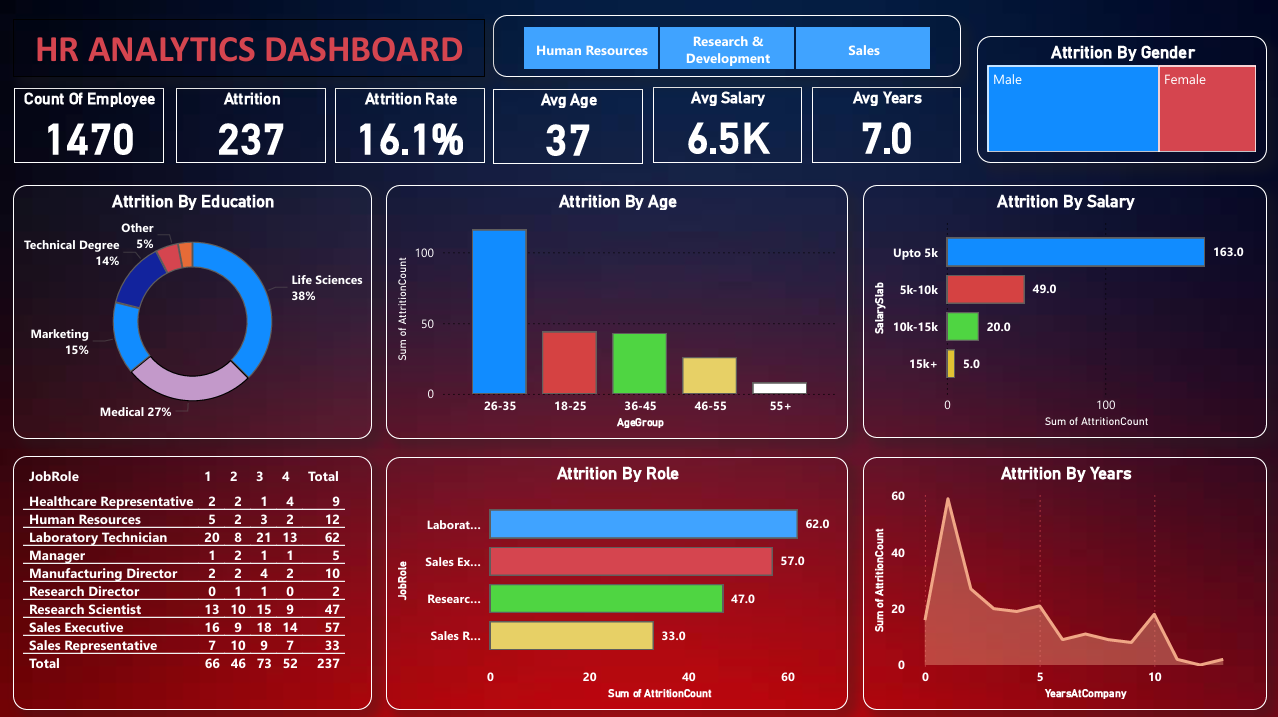

This screenshot's page, from the dashboard's own definition file:
{"tool":"powerbi","page":{"name":"HR ","canvas":[1280,720],"ordinal":0},"visuals":[{"type":"card","title":"Count Of Employee","fields":{"Values":["CountNonNull(HR_Analytics.EmpID)"]},"box":[14.7,88.8,150.1,75],"z":0},{"type":"card","title":"Attrition","fields":{"Values":["Sum(HR_Analytics.AttritionCount)"]},"box":[176.8,88.8,150.1,75],"z":1000},{"type":"card","title":"Attrition Rate","fields":{"Values":["HR_Analytics.AttritionRate"]},"box":[336.4,88.8,150.1,75],"z":2000},{"type":"card","title":"Avg Age","fields":{"Values":["Avg(HR_Analytics.Age)"]},"box":[494.2,89.7,150.1,75],"z":3000},{"type":"card","title":"Avg Salary","fields":{"Values":["Avg(HR_Analytics.MonthlyIncome)"]},"box":[653.8,88,149.2,75.9],"z":4000},{"type":"card","title":"Avg Years","fields":{"Values":["Avg(HR_Analytics.YearsAtCompany)"]},"box":[812.5,88,149.2,75.9],"z":5000},{"type":"donutChart","title":"Attrition By Education","fields":{"Category":["HR_Analytics.EducationField"],"Y":["Sum(HR_Analytics.AttritionCount)"]},"box":[13.8,186.3,358.8,253.6],"z":6000},{"type":"columnChart","title":"Attrition By Age","fields":{"Category":["HR_Analytics.AgeGroup"],"Y":["Sum(HR_Analytics.AttritionCount)"]},"box":[387.3,186.3,461.5,253.6],"z":7000},{"type":"pivotTable","fields":{"Rows":["HR_Analytics.JobRole"],"Columns":["HR_Analytics.JobSatisfaction"],"Values":["Sum(HR_Analytics.AttritionCount)"]},"box":[13.8,457.1,358.8,253.6],"z":8000},{"type":"barChart","title":"Attrition By Role","fields":{"Y":["Sum(HR_Analytics.AttritionCount)"],"Category":["HR_Analytics.JobRole"]},"box":[387.3,458,461.5,252.7],"z":9000},{"type":"areaChart","title":"Attrition By Years","fields":{"Y":["Sum(HR_Analytics.AttritionCount)"],"Category":["HR_Analytics.YearsAtCompany"]},"box":[864.3,458,403.7,252.7],"z":10000},{"type":"barChart","title":"Attrition By Salary","fields":{"Y":["Sum(HR_Analytics.AttritionCount)"],"Category":["HR_Analytics.SalarySlab"]},"box":[864.3,186.3,403.7,252.7],"z":11000},{"type":"treemap","title":"Attrition By Gender","fields":{"Group":["HR_Analytics.Gender"],"Values":["Sum(HR_Analytics.AttritionCount)"]},"box":[978.4,36.8,289.3,127.5],"z":12000},{"type":"slicer","fields":{"Values":["HR_Analytics.Department"]},"box":[494.2,15.5,467.5,62.1],"z":13000},{"type":"textbox","box":[13.8,19.8,472.7,57.8],"z":14000}]}

Visuals, with their boxes in screenshot pixels (x1, y1, x2, y2), scaled from the page's 1280x720 canvas onto the 1278x717 screenshot:
"Count Of Employee" card: select_region(15, 88, 165, 163)
"Attrition" card: select_region(177, 88, 326, 163)
"Attrition Rate" card: select_region(336, 88, 486, 163)
"Avg Age" card: select_region(493, 89, 643, 164)
"Avg Salary" card: select_region(653, 88, 802, 163)
"Avg Years" card: select_region(811, 88, 960, 163)
"Attrition By Education" donutChart: select_region(14, 186, 372, 438)
"Attrition By Age" columnChart: select_region(387, 186, 847, 438)
pivotTable - HR_Analytics.JobRole x HR_Analytics.JobSatisfaction: select_region(14, 455, 372, 708)
"Attrition By Role" barChart: select_region(387, 456, 847, 708)
"Attrition By Years" areaChart: select_region(863, 456, 1266, 708)
"Attrition By Salary" barChart: select_region(863, 186, 1266, 437)
"Attrition By Gender" treemap: select_region(977, 37, 1266, 164)
slicer - HR_Analytics.Department: select_region(493, 15, 960, 77)
textbox: select_region(14, 20, 486, 77)
